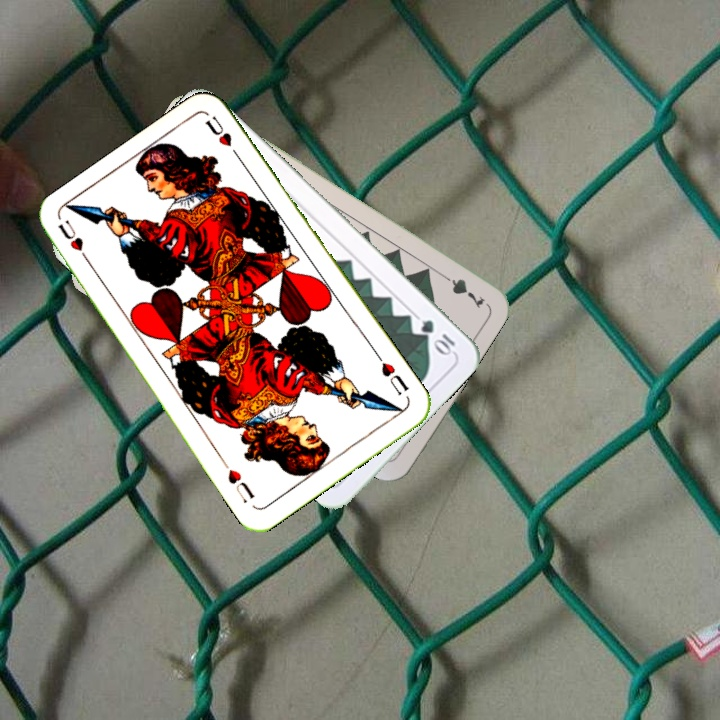G10: (416, 315, 459, 358)
G7: (435, 268, 488, 311)
HU: (53, 215, 95, 269), (377, 358, 412, 398)
